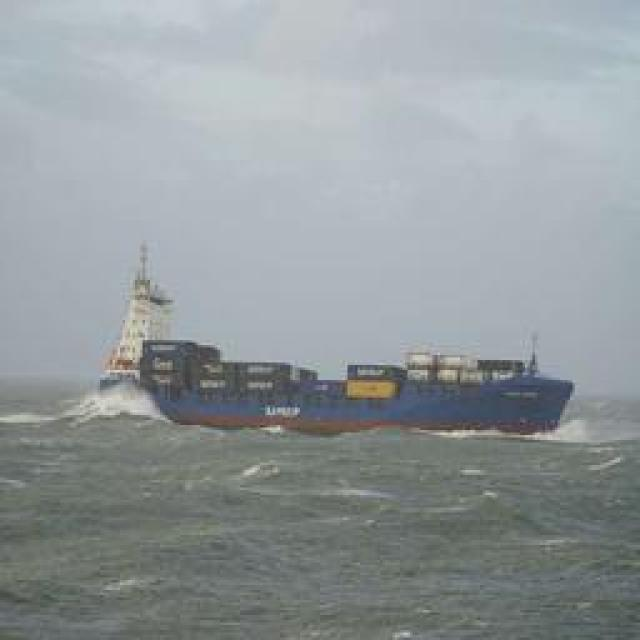CIV_Ship: (145, 344, 570, 438)
